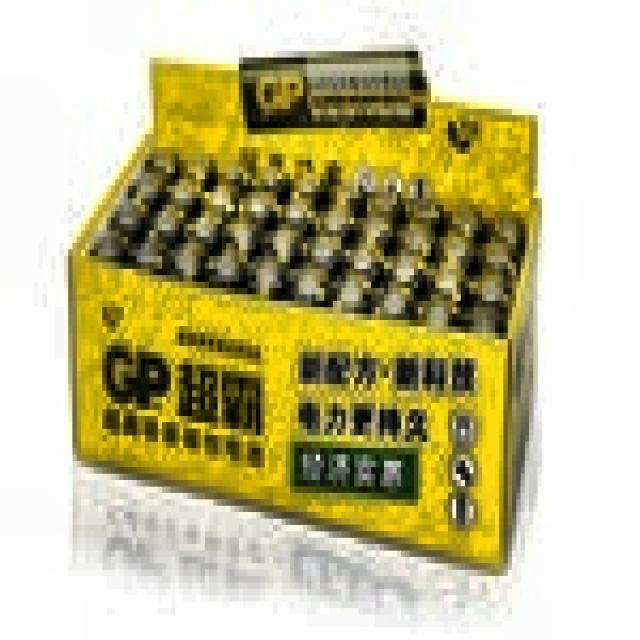Non-Valuable Waste - Batteries: (90, 152, 525, 333)
